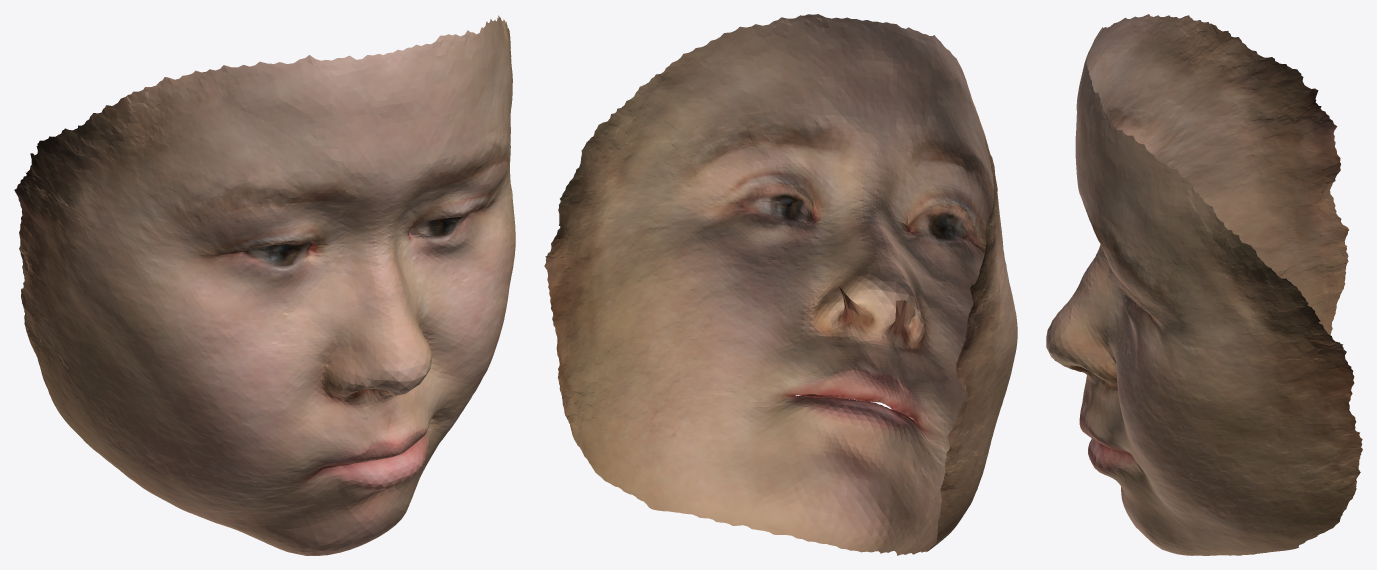
3 renders of one model, left to right at view 1: azimuth 30°, elevation 25°; view 2: azimuth 150°, elevation 25°; view 3: azimuth 270°, elevation 25°, orthographic. The views are drawn at different scales.
Bounding box in the file's own units: 1.46 × 1.66 × 0.9797.
